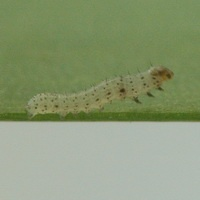insect: (26, 66, 173, 116)
